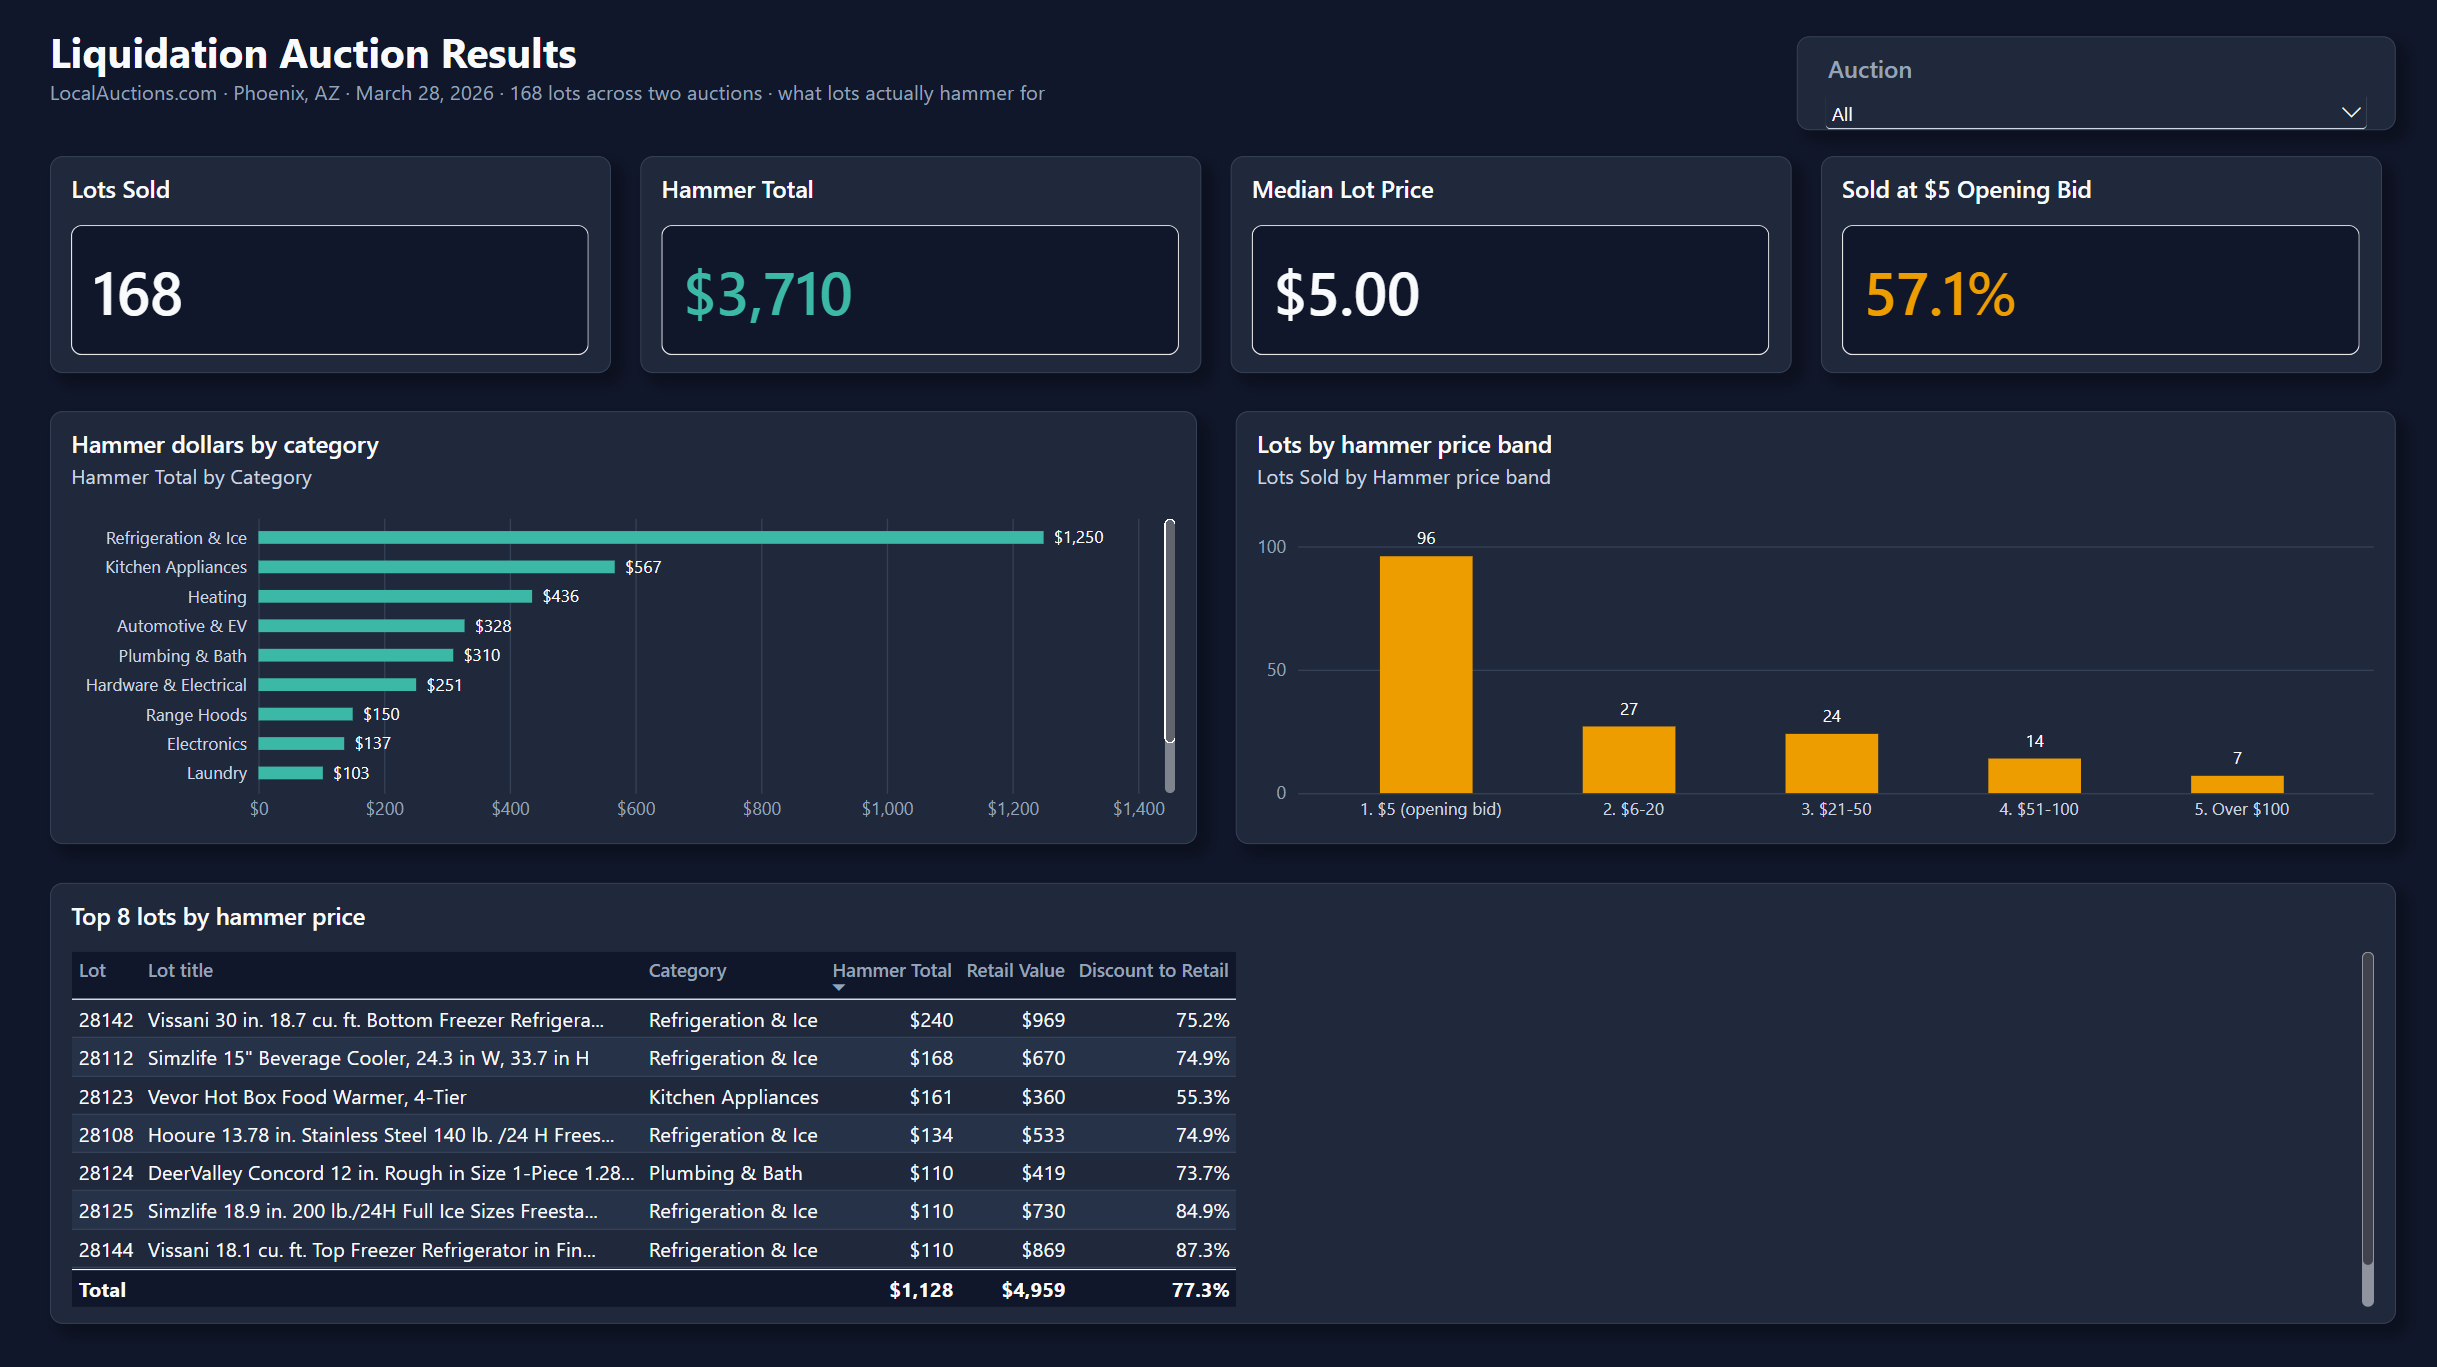

Layout of this report page (visuals, bound fields, positions):
{"tool":"powerbi","page":{"name":"Auction Overview","canvas":[1920,1080],"ordinal":0},"visuals":[{"type":"textbox","box":[40,20,1340,84],"z":100},{"type":"slicer","fields":{"Values":["FactLots.auction_name"]},"box":[1410,30,470,74],"z":150},{"type":"cardVisual","title":"Lots Sold","fields":{"Data":["_Measures.Lots Sold"]},"box":[40,124,440,170],"z":200},{"type":"cardVisual","title":"Hammer Total","fields":{"Data":["_Measures.Hammer Total"]},"box":[503,124,440,170],"z":200},{"type":"cardVisual","title":"Median Lot Price","fields":{"Data":["_Measures.Median Hammer"]},"box":[966,124,440,170],"z":200},{"type":"cardVisual","title":"Sold at $5 Opening Bid","fields":{"Data":["_Measures.Opening Bid Share"]},"box":[1429,124,440,170],"z":200},{"type":"clusteredBarChart","title":"Hammer dollars by category","fields":{"Category":["FactLots.category"],"Y":["_Measures.Hammer Total"]},"box":[40,324,900,340],"z":300},{"type":"clusteredColumnChart","title":"Lots by hammer price band","fields":{"Category":["FactLots.price_band"],"Y":["_Measures.Lots Sold"]},"box":[970,324,910,340],"z":300},{"type":"tableEx","title":"Top 8 lots by hammer price","fields":{"Values":["FactLots.lot","FactLots.Lot Title","FactLots.category","_Measures.Hammer Total","_Measures.Retail Value","_Measures.Discount to Retail"]},"box":[40,694,1840,346],"z":300}]}

Visuals, with their boxes in screenshot pixels (x1, y1, x2, y2), scaled from the page's 1920x1080 canvas onto the 2437x1367 screenshot:
textbox: <region>51, 25, 1752, 132</region>
slicer - FactLots.auction_name: <region>1790, 38, 2386, 132</region>
"Lots Sold" cardVisual: <region>51, 157, 609, 372</region>
"Hammer Total" cardVisual: <region>638, 157, 1197, 372</region>
"Median Lot Price" cardVisual: <region>1226, 157, 1785, 372</region>
"Sold at $5 Opening Bid" cardVisual: <region>1814, 157, 2372, 372</region>
"Hammer dollars by category" clusteredBarChart: <region>51, 410, 1193, 840</region>
"Lots by hammer price band" clusteredColumnChart: <region>1231, 410, 2386, 840</region>
"Top 8 lots by hammer price" tableEx: <region>51, 878, 2386, 1316</region>
